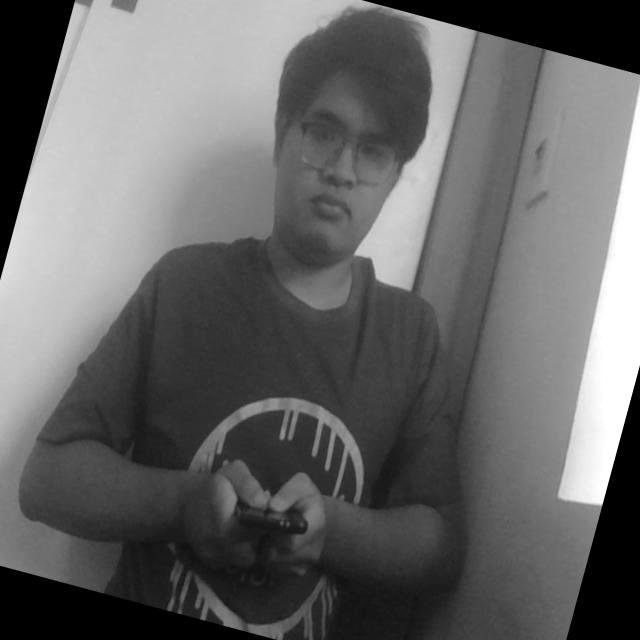phone: (207, 471, 321, 578)
